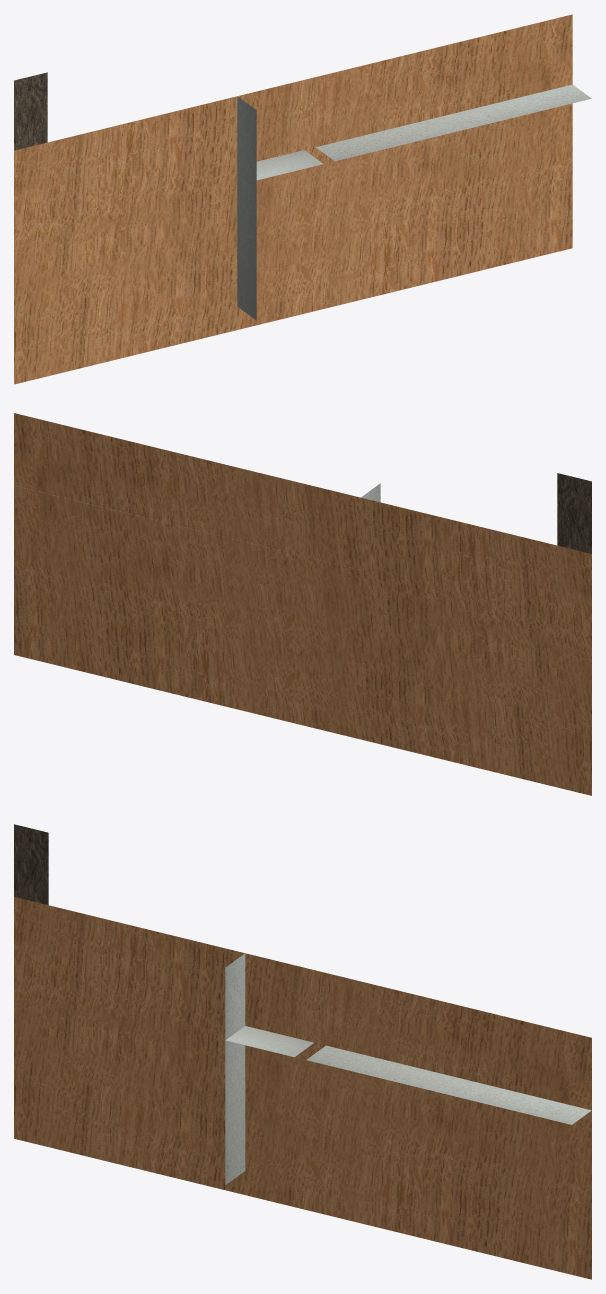
The model's file is rdc.obj.
The picture shows the model from 3 angles, top to bottom: view 1: azimuth 30°, elevation 25°; view 2: azimuth 150°, elevation 25°; view 3: azimuth 330°, elevation 25°; orthographic projection. The views are drawn at different scales.
Bounding box in the file's own units: 50 × 26 × 3.
3 materials, 3 textured.
